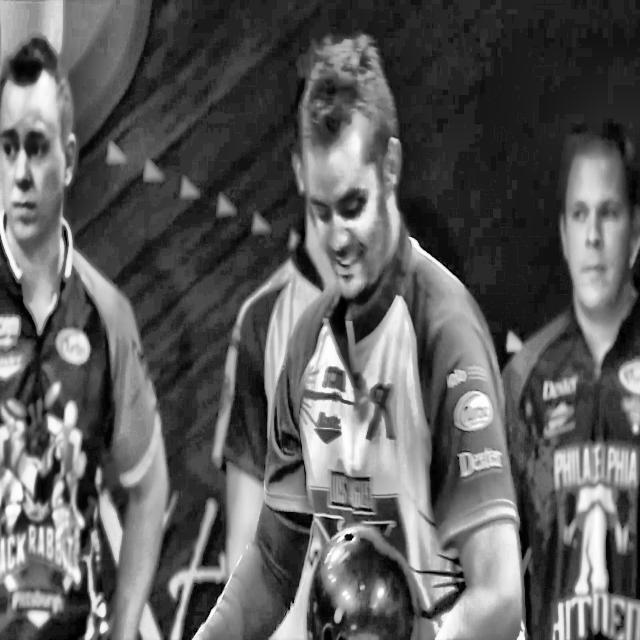bowling-ball: (306, 525, 421, 640)
